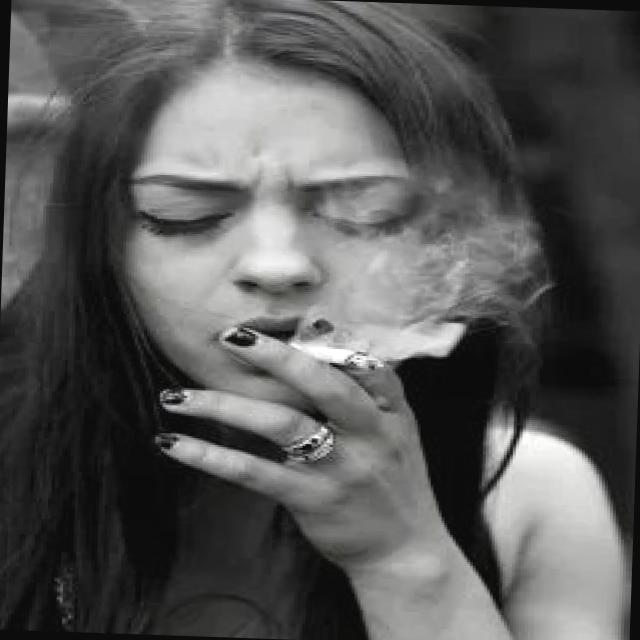smoke: (272, 332, 384, 380)
